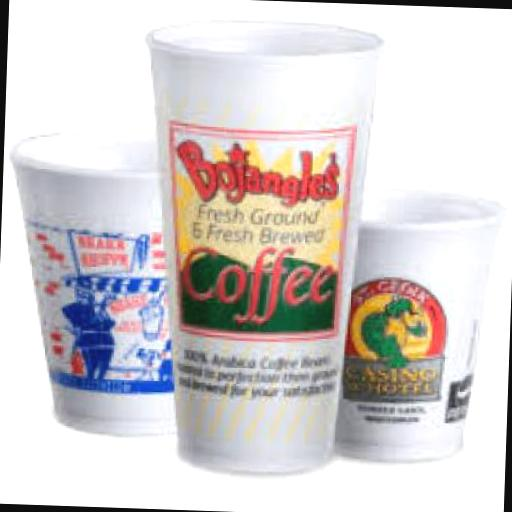paper: (128, 12, 386, 476), (0, 123, 200, 434), (332, 180, 504, 466)
